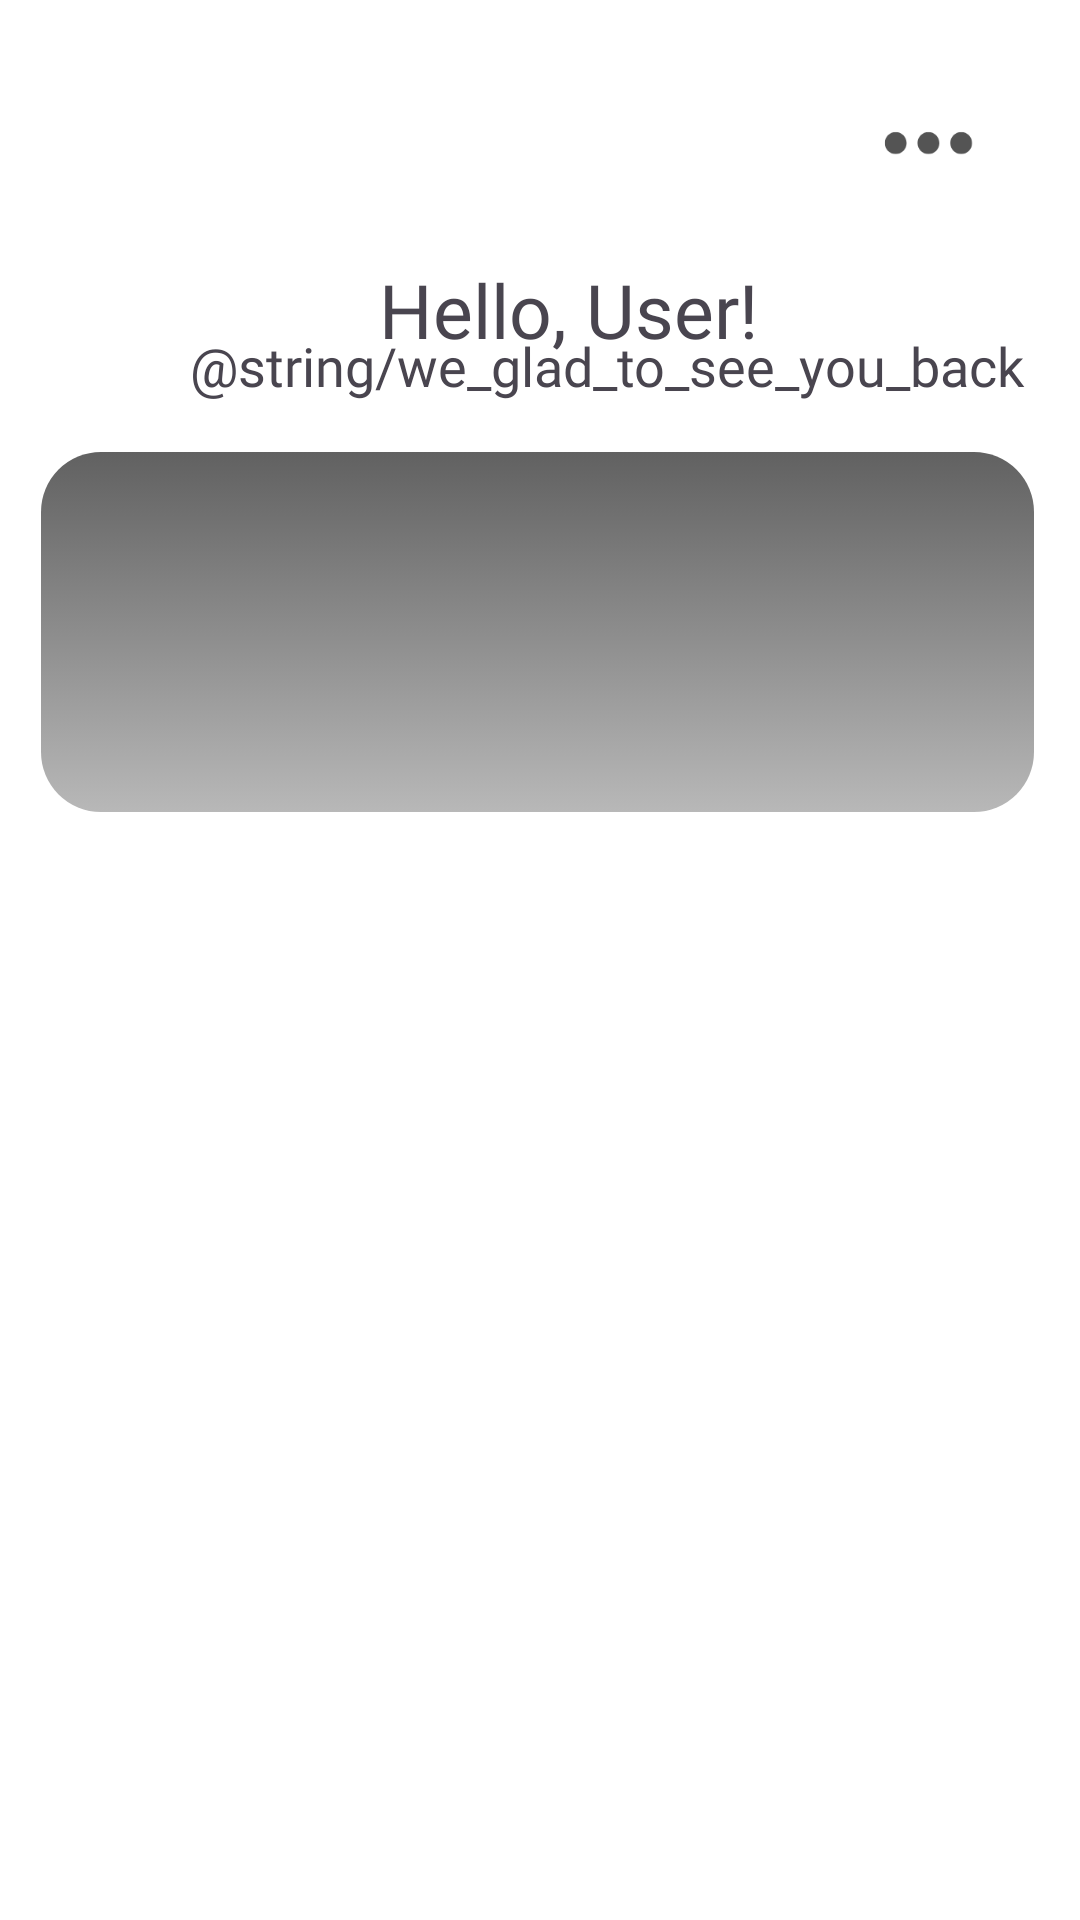

Icon bounding boxes for this 1080w x 1920h phone screenshot, format (x1, y1, x2, y2):
menu: (885, 132, 973, 154)
